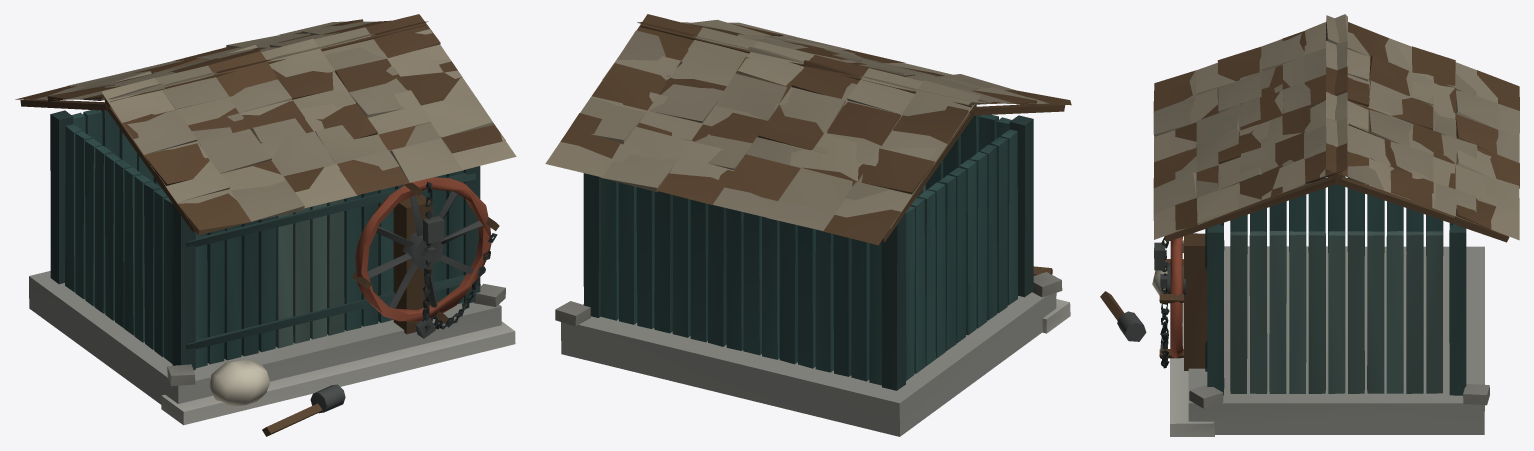
Rendered from gate_wheelhouse_a_lod2.glb.
3 views of the same model, side by side, from view 1: azimuth 30°, elevation 25°; view 2: azimuth 150°, elevation 25°; view 3: azimuth 270°, elevation 25° (orthographic). The views are drawn at different scales.
Visible parts, largest first — view 1: Surface.001; view 2: Surface.001; view 3: Surface.001.
Boxes of the visible parts, bbox=[...] form: Surface.001: bbox=[15, 14, 516, 436]; Surface.001: bbox=[545, 14, 1071, 436]; Surface.001: bbox=[1100, 14, 1519, 436].
Size of the model in its own units: 7.56 by 5.69 by 8.11.
